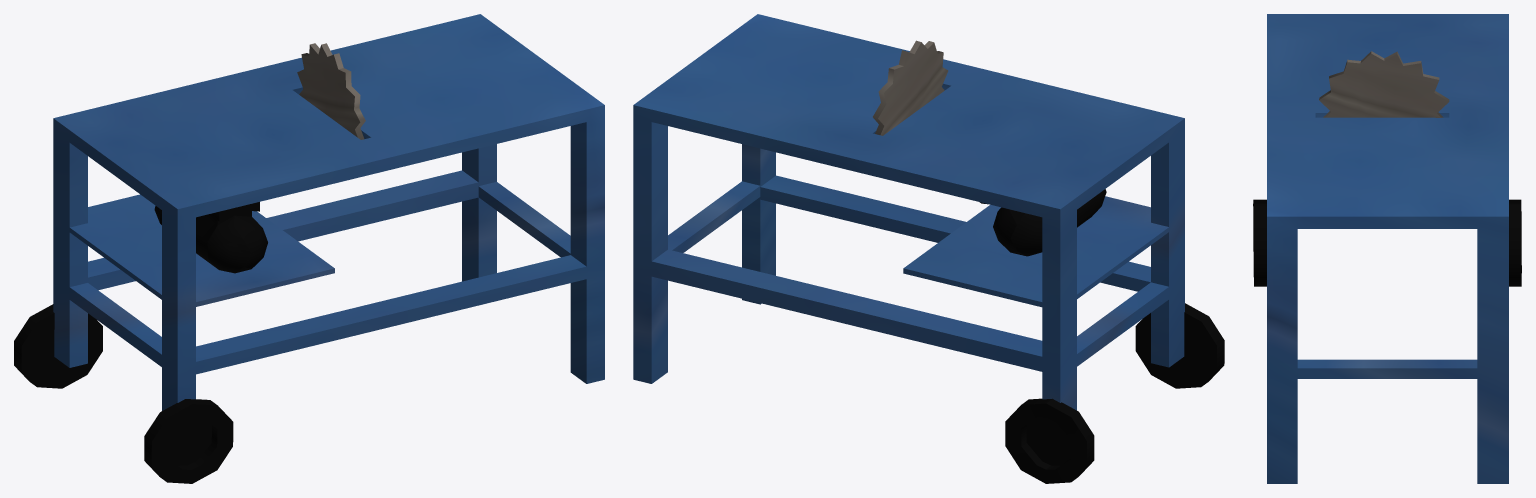
The model's file is kesici 1 .fbx.
3 renders of one model, left to right at view 1: azimuth 30°, elevation 25°; view 2: azimuth 150°, elevation 25°; view 3: azimuth 270°, elevation 25°, orthographic. The views are drawn at different scales.
Visible parts, largest first — view 1: Cube.003; view 2: Cube.003; view 3: Cube.003.
Part boxes in pixels (box(x1,y1,x2,y2)): Cube.003: box(14, 14, 604, 483); Cube.003: box(633, 14, 1224, 483); Cube.003: box(1253, 14, 1521, 483).
Bounding box in the file's own units: 243 × 171 × 126.
1 material, 1 textured.
